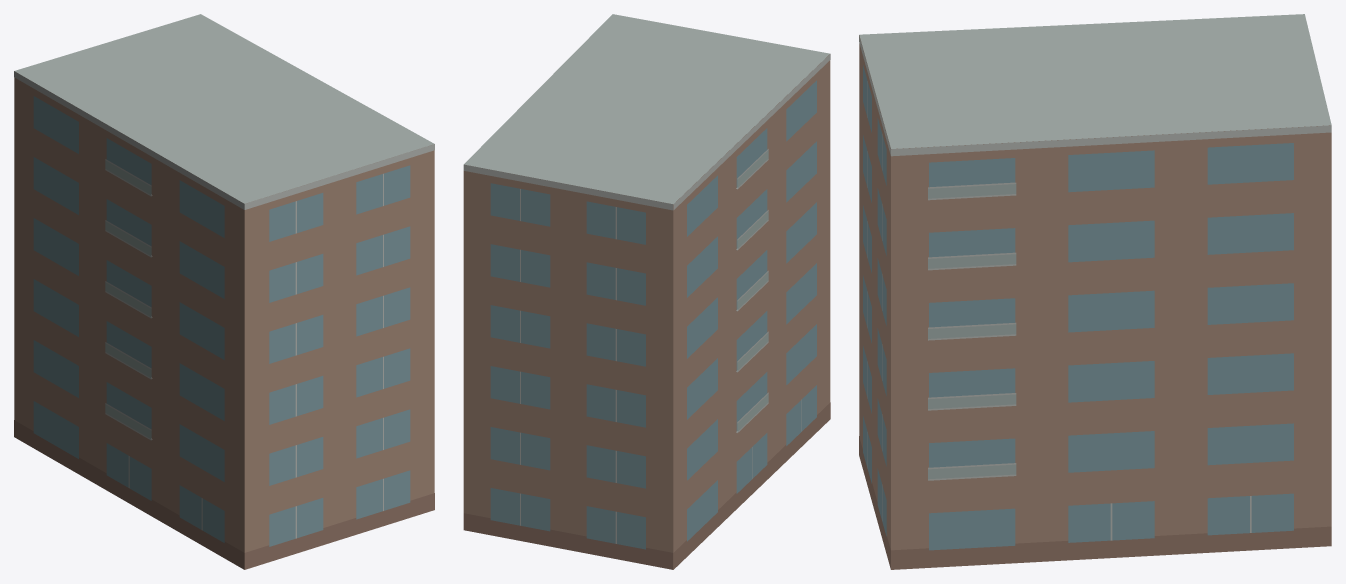
Rendered from survey-upis-32981544.glb.
3 renders of one model, left to right at view 1: azimuth 30°, elevation 25°; view 2: azimuth 150°, elevation 25°; view 3: azimuth 270°, elevation 25°, orthographic. The views are drawn at different scales.
Parts seen in each view (by area): view 1: survey-upis-32981544.tmp; view 2: survey-upis-32981544.tmp; view 3: survey-upis-32981544.tmp.
Boxes of the visible parts, x1,y1,x2,y2 form: survey-upis-32981544.tmp: (14,14,434,569); survey-upis-32981544.tmp: (463,14,830,569); survey-upis-32981544.tmp: (859,14,1331,569).
Size of the model in its own units: 9.82 by 14.25 by 14.51.
